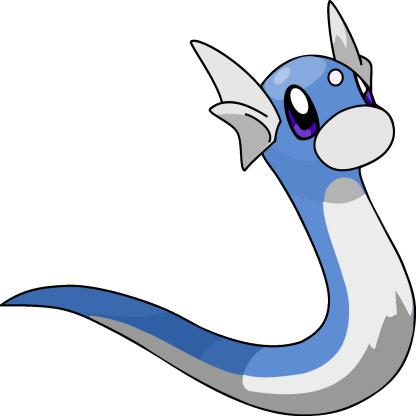Dratini: (1, 1, 416, 416)
